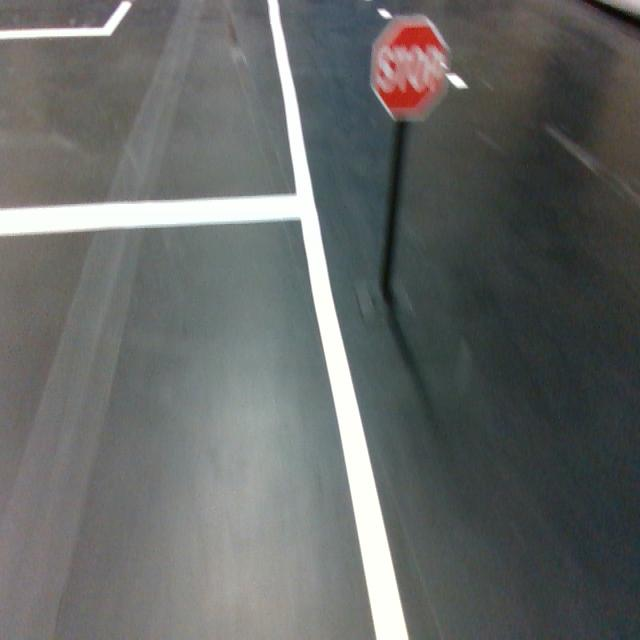stop-sign: (370, 14, 450, 122)
